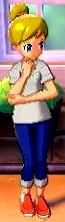woman_egg: (9, 3, 58, 218)
